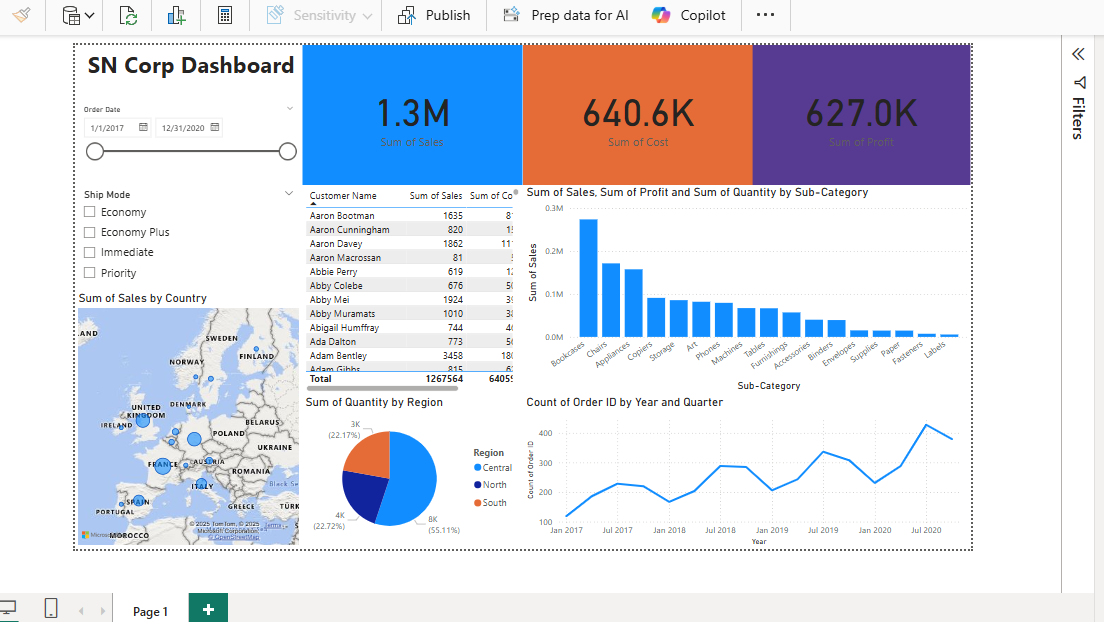

The page's visual inventory and layout, read from the dashboard file:
{"tool":"powerbi","page":{"name":"Page 1","canvas":[1280,720],"ordinal":0},"visuals":[{"type":"card","fields":{"Values":["List of Orders.Sales"]},"box":[325,0,315,200],"z":0},{"type":"card","fields":{"Values":["List of Orders.Profit"]},"box":[967.6,0,312.4,199.9],"z":1000},{"type":"card","fields":{"Values":["List of Orders.Cost"]},"box":[640,0,328.3,200],"z":2000},{"type":"actionButton","box":[0,0,100,40],"z":3000},{"type":"tableEx","fields":{"Values":["List of Orders.Customer Name","List of Orders.Sales","List of Orders.Cost","List of Orders.Profit"]},"box":[325,200,315,300],"z":4000},{"type":"clusteredColumnChart","fields":{"Y":["List of Orders.Sales"],"Category":["List of Orders.Sub-Category"]},"box":[640,200,640,300],"z":5000},{"type":"lineChart","fields":{"Y":["List of Orders.Order ID"],"Category":["List of Orders.Order Date.Variation.Date Hierarchy.Year","List of Orders.Order Date.Variation.Date Hierarchy.Quarter"]},"box":[640,500,640,220],"z":6000},{"type":"pieChart","fields":{"Y":["List of Orders.Quantity"],"Category":["List of Orders.Region"]},"box":[325,500,315,220],"z":7000},{"type":"map","fields":{"Category":["List of Orders.Country"],"Size":["List of Orders.Sales"]},"box":[0,351.7,325,368.3],"z":8000},{"type":"textbox","box":[0,0,325,80],"z":9000},{"type":"slicer","fields":{"Values":["List of Orders.Ship Mode"]},"box":[0,200,325,150],"z":10000},{"type":"slicer","fields":{"Values":["List of Orders.Order Date"]},"box":[0,80,325,120],"z":11000}]}

Visuals, with their boxes on the page's 1280x720 design canvas (x1, y1, x2, y2). These are canvas units, not pixel positions in the 1104x622 screenshot, which may show the page scaled, cropped or inside an application window:
card - List of Orders.Sales: region(325, 0, 640, 200)
card - List of Orders.Profit: region(968, 0, 1280, 200)
card - List of Orders.Cost: region(640, 0, 968, 200)
actionButton: region(0, 0, 100, 40)
tableEx - List of Orders.Customer Name x List of Orders.Sales: region(325, 200, 640, 500)
clusteredColumnChart - List of Orders.Sales x List of Orders.Sub-Category: region(640, 200, 1280, 500)
lineChart - List of Orders.Order ID x List of Orders.Order Date.Variation.Date Hierarchy.Year: region(640, 500, 1280, 720)
pieChart - List of Orders.Quantity x List of Orders.Region: region(325, 500, 640, 720)
map - List of Orders.Country x List of Orders.Sales: region(0, 352, 325, 720)
textbox: region(0, 0, 325, 80)
slicer - List of Orders.Ship Mode: region(0, 200, 325, 350)
slicer - List of Orders.Order Date: region(0, 80, 325, 200)
